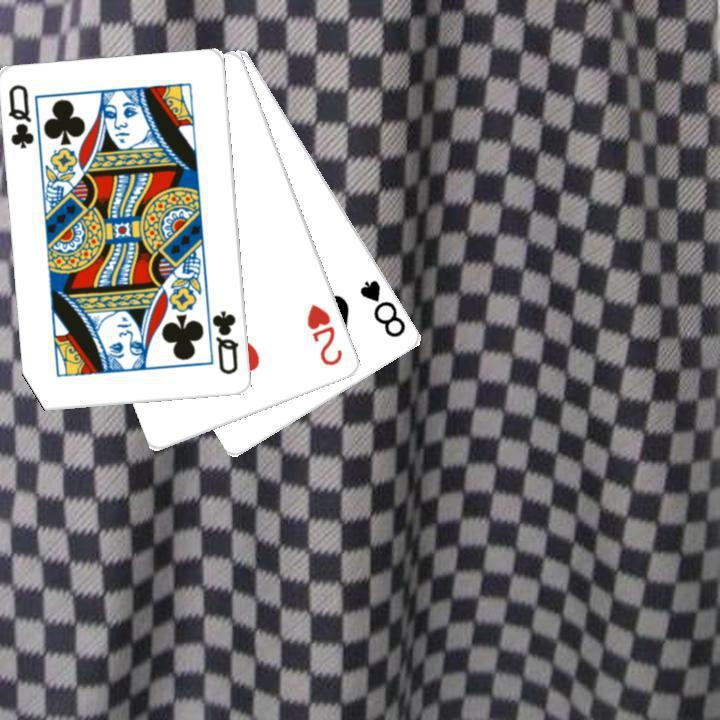2: (303, 300, 345, 368)
8: (356, 275, 409, 340)
Q: (208, 306, 241, 377), (5, 81, 37, 151)
